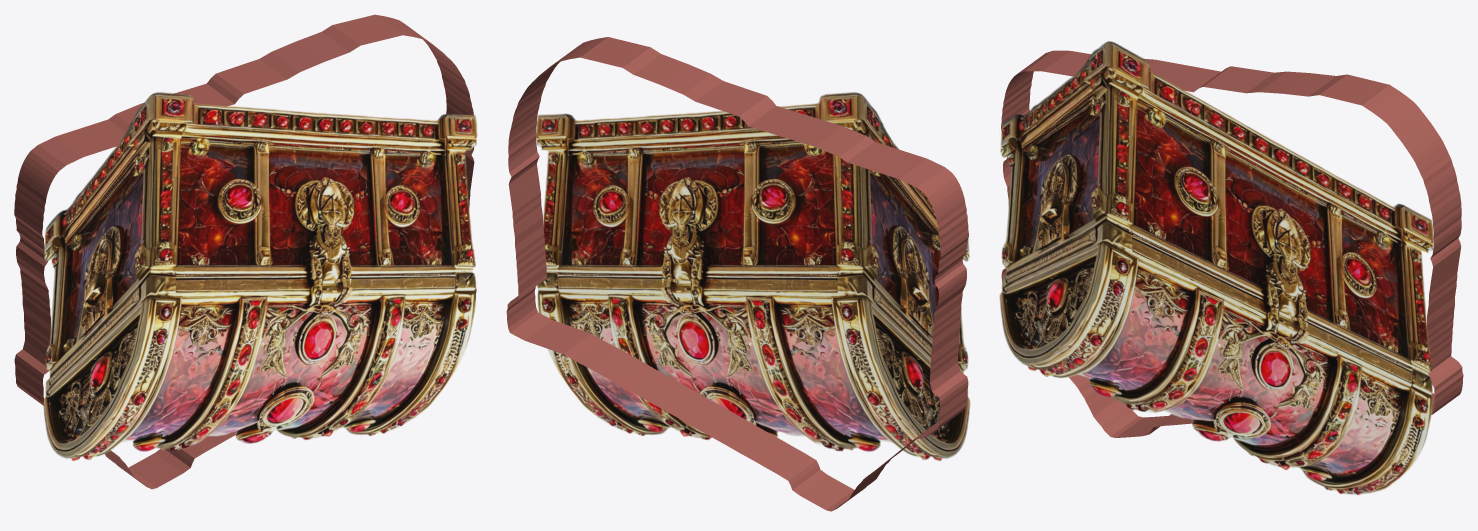
Rendered from Ruby_Chest_Light.glb.
The picture shows the model from 3 angles, left to right: view 1: azimuth 30°, elevation 25°; view 2: azimuth 150°, elevation 25°; view 3: azimuth 330°, elevation 25°; orthographic projection.
Visible parts, largest first — view 1: Ruby_Chest_Light; view 2: Ruby_Chest_Light; view 3: Ruby_Chest_Light.
Boxes of the visible parts, x1=… form: Ruby_Chest_Light: x1=14, y1=14, x2=477, y2=489; Ruby_Chest_Light: x1=506, y1=37, x2=970, y2=511; Ruby_Chest_Light: x1=999, y1=41, x2=1463, y2=494.
Bounding box in the file's own units: 1.8 × 1.57 × 0.21.
Materials: 2 (1 with a texture image).
